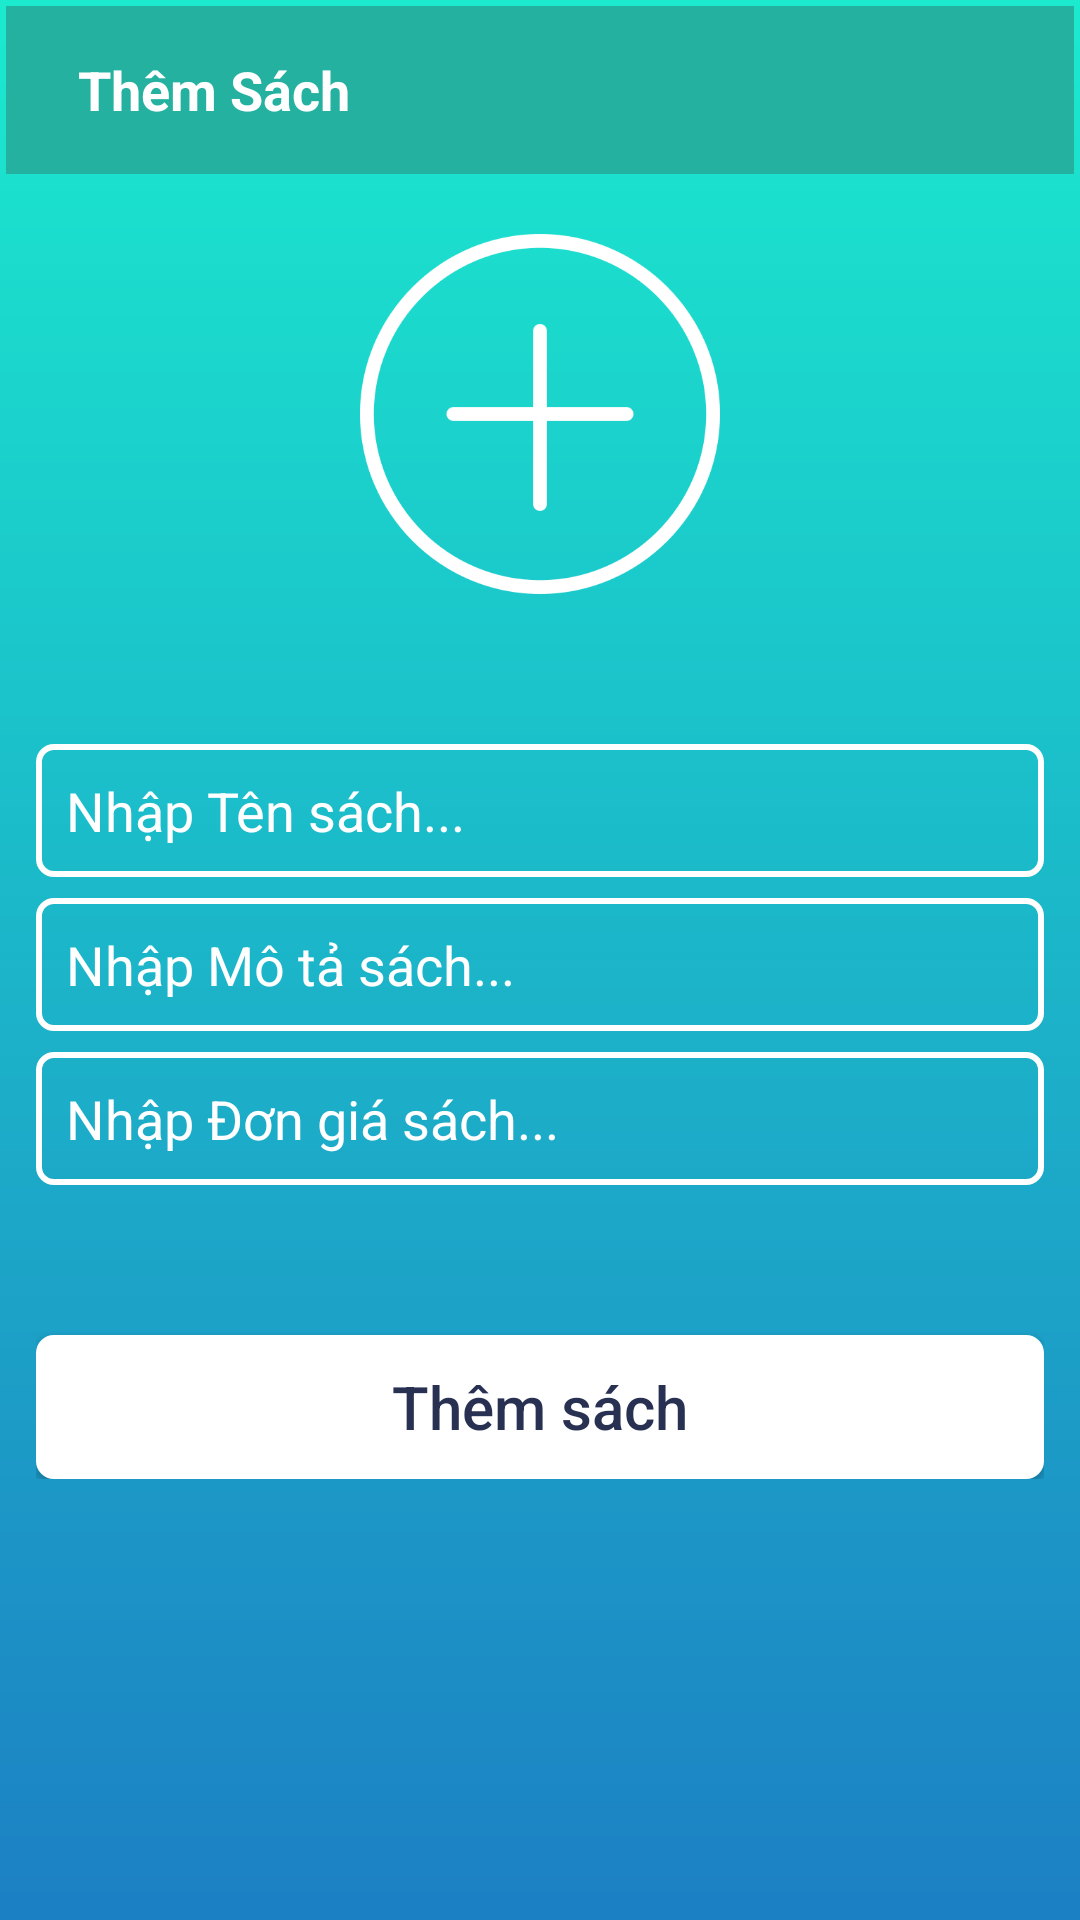

Icon bounding boxes for this 1080px×1920px phone screenshot, format (x1, y1, x2, y2):
plus: (360, 234, 720, 594)
